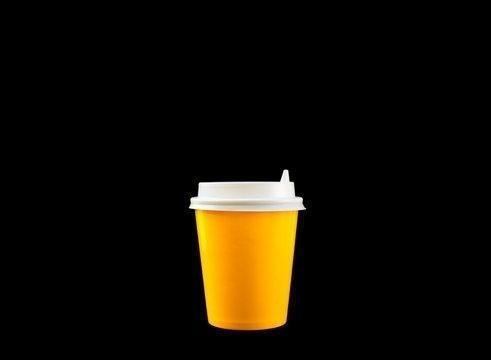cup-disposable: (187, 176, 307, 333)
